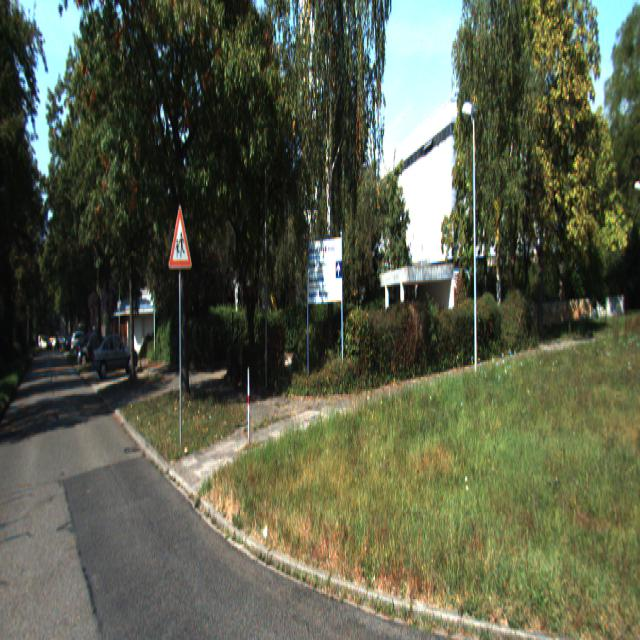Car: (94, 330, 140, 380)
